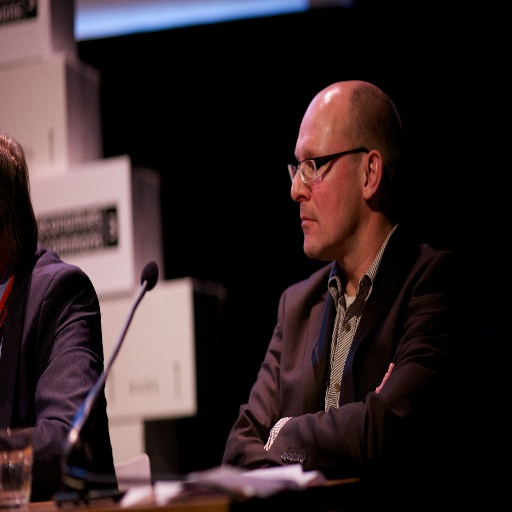hand: (374, 362, 394, 394)
